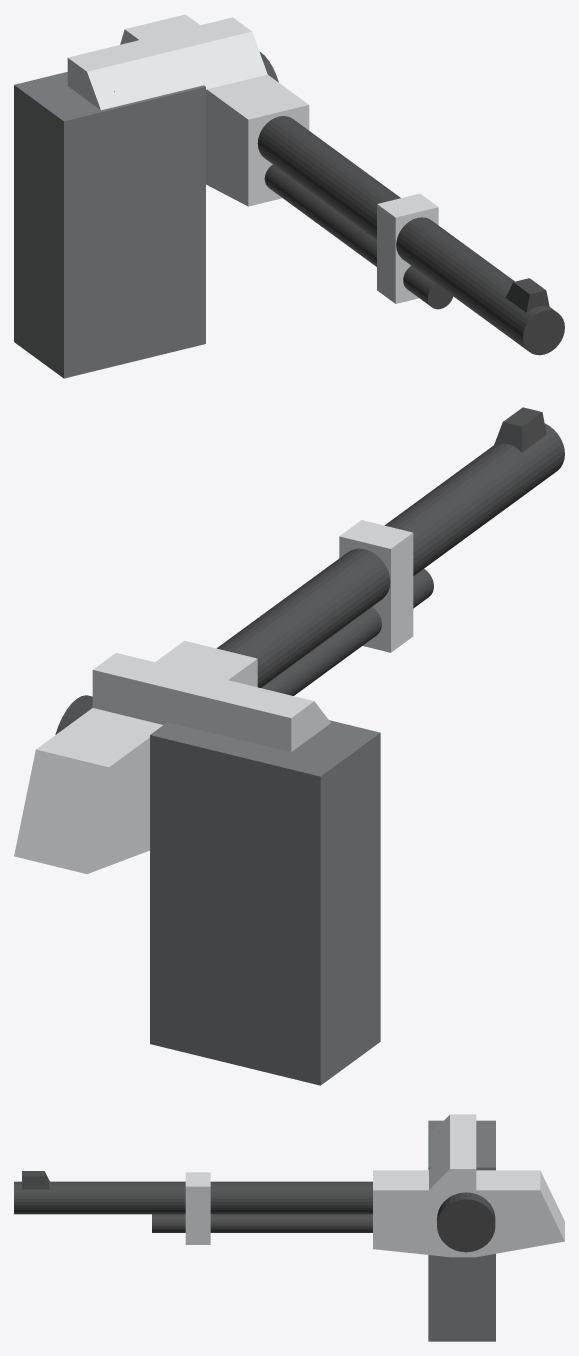
The model's file is machinegun.fbx.
The picture shows the model from 3 angles, top to bottom: view 1: azimuth 30°, elevation 25°; view 2: azimuth 150°, elevation 25°; view 3: azimuth 270°, elevation 25°; orthographic projection. The views are drawn at different scales.
Parts seen in each view (by area): view 1: Cylinder; view 2: Cylinder; view 3: Cylinder.
Part boxes in pixels (bbox=[...]): Cylinder: bbox=[14, 14, 564, 378]; Cylinder: bbox=[14, 407, 564, 1085]; Cylinder: bbox=[14, 1114, 564, 1341].
Size of the model in its own units: 183 by 222 by 574.
